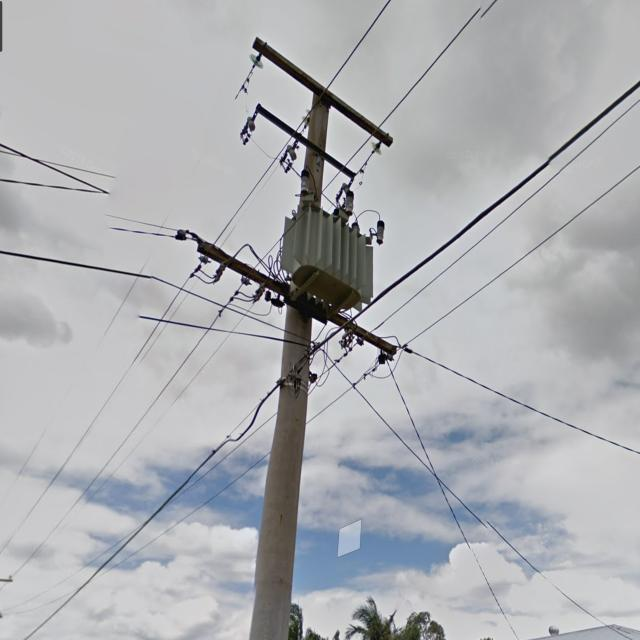HV-transmission: (249, 35, 394, 204)
LV link: (363, 346, 407, 379), (192, 256, 234, 284), (230, 280, 268, 302)
crossarm: (197, 240, 399, 357), (252, 36, 394, 148), (255, 101, 358, 179)
timber-pole: (247, 92, 329, 640)
transformer: (281, 195, 374, 312)
